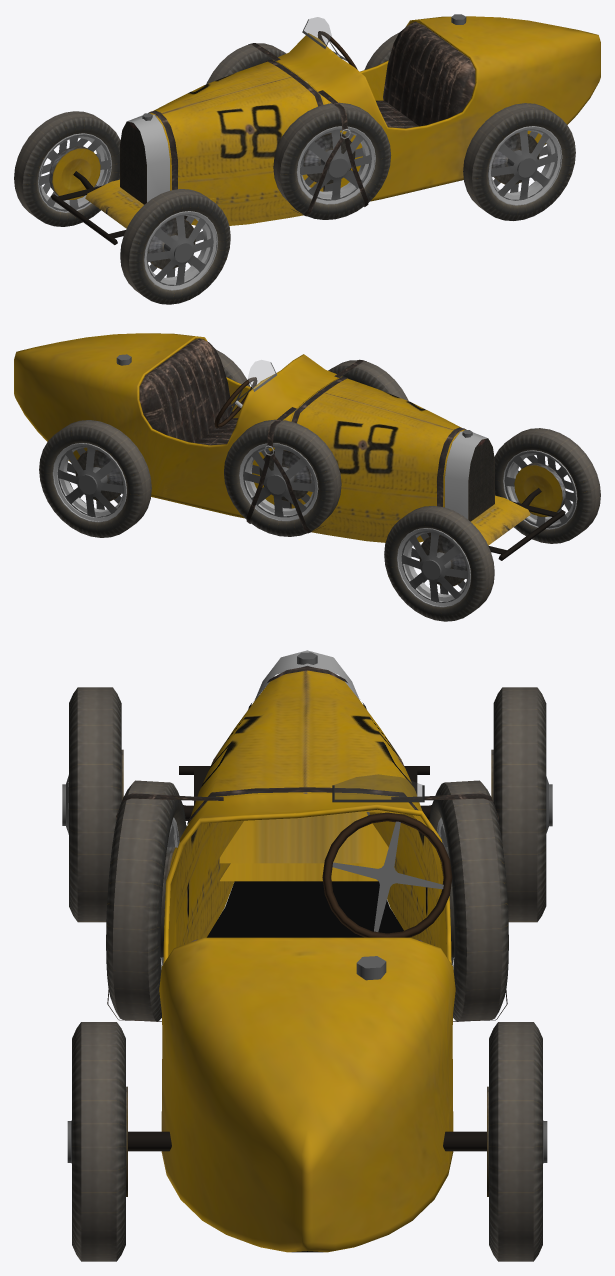
Rendered from bugatti_t_35.glb.
3 renders of one model, top to bottom at view 1: azimuth 30°, elevation 25°; view 2: azimuth 150°, elevation 25°; view 3: azimuth 270°, elevation 25°, orthographic. The views are drawn at different scales.
Visible parts, largest first — view 1: Object309, Cylinder261, Cylinder324, Cylinder327, Object310, Shape051, Shape010, Shape055, Cylinder325, Shape057, Box087, Cylinder257; view 2: Object309, Cylinder325, Cylinder326, Cylinder329, Object310, Shape058, Shape057, Shape056, Cylinder261, Shape010, Box087, Circle001 (+1 smaller); view 3: Object309, Object311, Circle001, Box087, Plane842, Cylinder259, Object310.
Boxes of the visible parts, <box> form: Object309: <box>14,16,600,304</box>; Cylinder261: <box>146,214,213,285</box>; Cylinder324: <box>491,129,557,200</box>; Cylinder327: <box>300,129,371,200</box>; Object310: <box>127,114,169,202</box>; Shape051: <box>488,126,562,205</box>; Shape010: <box>144,211,217,290</box>; Shape055: <box>296,126,375,204</box>; Cylinder325: <box>38,134,110,211</box>; Shape057: <box>37,133,111,212</box>; Box087: <box>304,17,331,46</box>; Cylinder257: <box>51,194,117,244</box>; Object309: <box>14,333,600,621</box>; Cylinder325: <box>401,531,468,602</box>; Cylinder326: <box>57,446,123,517</box>; Cylinder329: <box>243,446,315,517</box>; Object310: <box>445,431,487,519</box>; Shape058: <box>52,443,126,522</box>; Shape057: <box>397,528,470,607</box>; Shape056: <box>239,443,318,521</box>; Cylinder261: <box>504,451,576,528</box>; Shape010: <box>503,450,577,529</box>; Box087: <box>248,360,275,388</box>; Circle001: <box>214,377,257,427</box>; Object309: <box>69,666,546,1261</box>; Object311: <box>207,881,403,937</box>; Circle001: <box>322,812,452,937</box>; Box087: <box>334,774,422,801</box>; Plane842: <box>332,821,443,931</box>; Cylinder259: <box>128,1131,486,1151</box>; Object310: <box>254,650,369,815</box>.
Bounding box in the file's own units: 3.66 × 1.17 × 1.47.
Materials: 7 (1 with a texture image).
